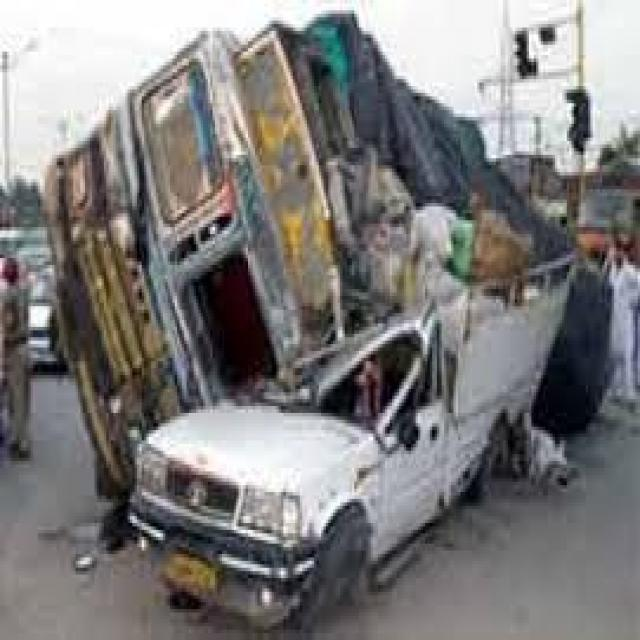accident: (31, 13, 581, 630)
